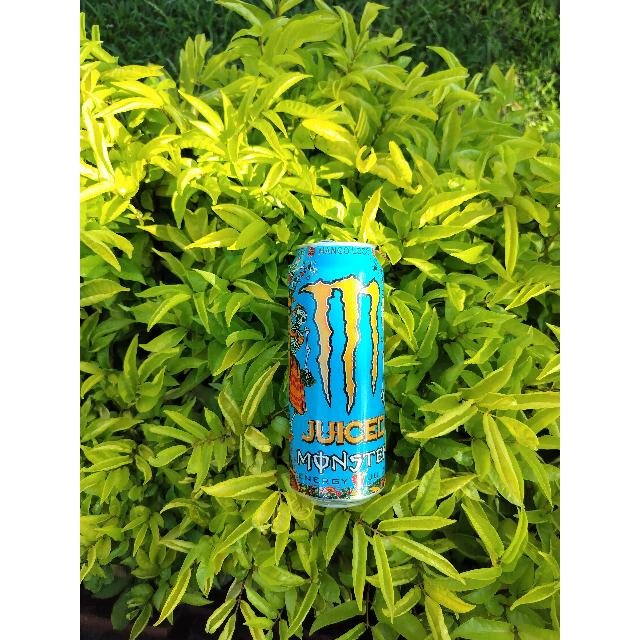Monster Mango Loco: (286, 240, 386, 504)
